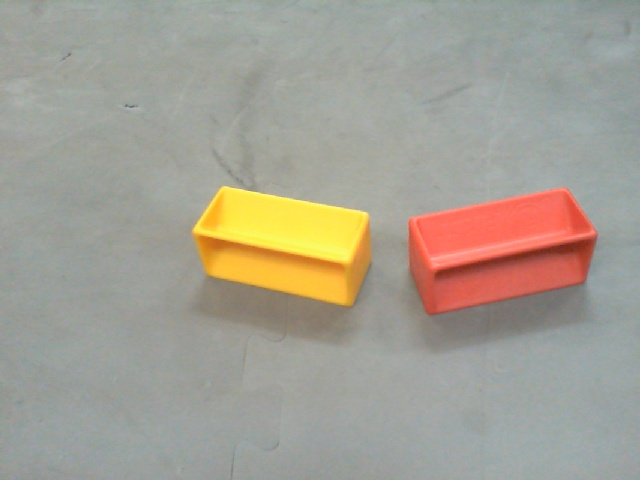RedSample: (406, 185, 596, 315)
YellowSample: (193, 186, 371, 307)
